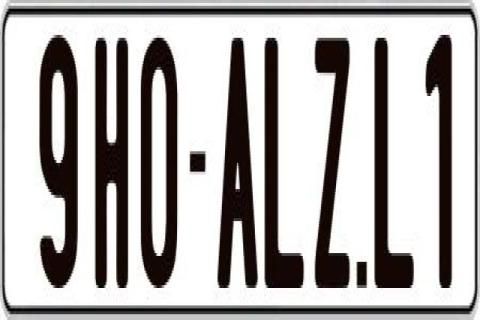0: (40, 32, 80, 300), (140, 32, 176, 285), (424, 27, 455, 280)
A: (217, 38, 263, 294)
H: (95, 35, 129, 303)
L: (263, 38, 306, 291), (372, 29, 410, 294)
Z: (314, 35, 354, 303)
